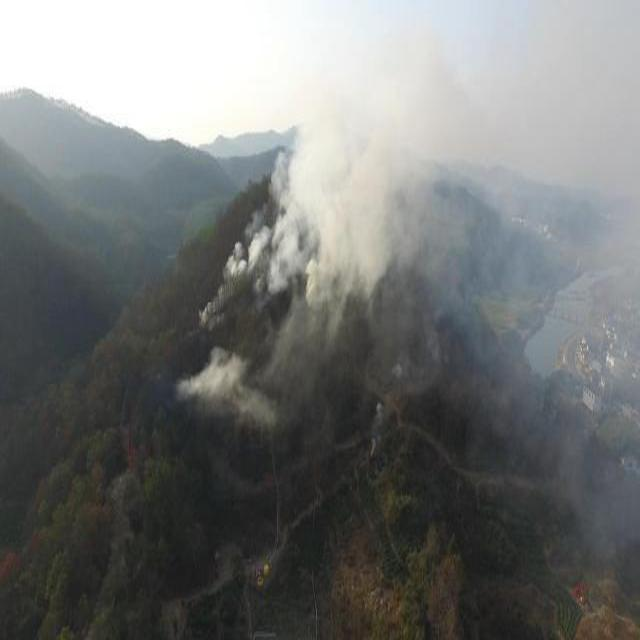Smoke: (218, 85, 422, 322), (171, 342, 283, 432)
